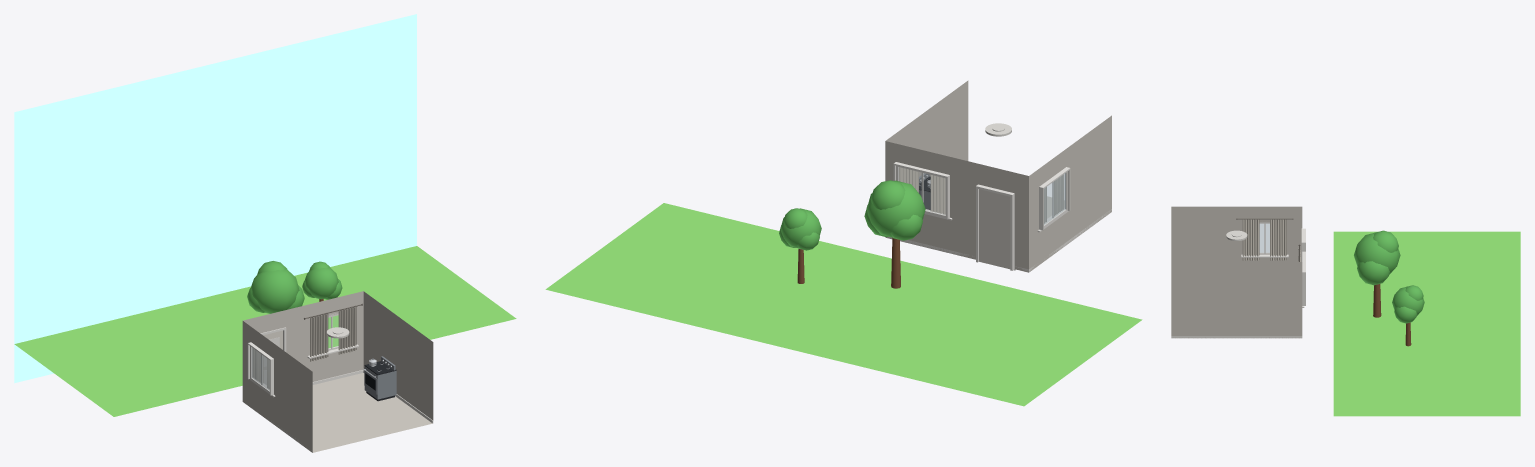
Rendered from kitchen.glb.
3 views of the same model, side by side, from view 1: azimuth 30°, elevation 25°; view 2: azimuth 150°, elevation 25°; view 3: azimuth 270°, elevation 25° (orthographic). The views are drawn at different scales.
Visible parts, largest first — view 1: Exterior_Sky, Exterior_Ground, Floor, Wall_Right_0, Wall_Left_3, Exterior_Tree_0, WindowBack, Wall_Back_2, Exterior_Tree_1, Wall_Back_3, Wall_Back_5, Wall_Left_0 (+4 smaller); view 2: Exterior_Ground, Wall_Left_3, Wall_Right_0, Exterior_Tree_0, Wall_Back_2, Door_Leaf, Wall_Back_0, Exterior_Tree_1, WindowBack_Glass, Wall_Left_0, Wall_Back_3, Wall_Back_4 (+4 smaller); view 3: Exterior_Ground, Wall_Right_0, Wall_Left_3, Exterior_Tree_0, WindowLeft, Exterior_Tree_1, Wall_Left_0, Wall_Left_2, Skirting_Right.
Part boxes in pixels (x1,y1,x2,y2): Exterior_Sky: (14,14,416,383); Exterior_Ground: (14,246,516,416); Floor: (312,373,432,452); Wall_Right_0: (363,291,433,420); Wall_Left_3: (273,343,312,452); Exterior_Tree_0: (247,261,304,313); WindowBack: (310,306,356,361); Wall_Back_2: (283,304,310,369); Exterior_Tree_1: (302,261,342,299); Wall_Back_3: (310,350,353,381); Wall_Back_5: (353,291,363,371); Wall_Left_0: (242,321,251,408); Exterior_Ground: (545,203,1142,406); Wall_Left_3: (1065,115,1111,245); Wall_Right_0: (886,80,968,176); Exterior_Tree_0: (864,180,925,240); Wall_Back_2: (948,156,980,259); Door_Leaf: (979,189,1010,269); Wall_Back_0: (1012,172,1028,272); Exterior_Tree_1: (779,208,821,250); WindowBack_Glass: (898,167,944,214); Wall_Left_0: (1029,168,1039,271); Wall_Back_3: (900,214,948,252); Wall_Back_4: (897,144,948,174); Exterior_Ground: (1333,231,1520,416); Wall_Right_0: (1171,262,1302,338); Wall_Left_3: (1171,206,1244,261); Exterior_Tree_0: (1354,230,1400,285); WindowLeft: (1242,219,1286,260); Exterior_Tree_1: (1392,285,1424,323); Wall_Left_0: (1285,206,1302,261); Wall_Left_2: (1244,206,1285,222); Skirting_Right: (1171,336,1302,338).
Size of the model in its own units: 14 by 9 by 11.2.
